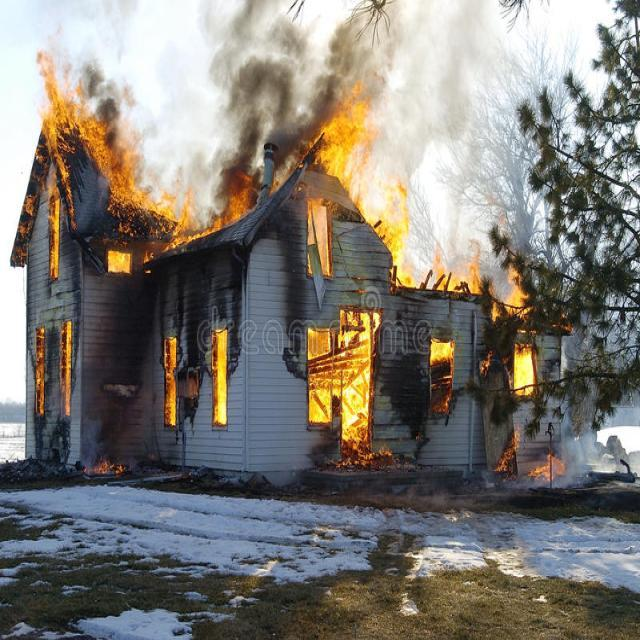Fire: (35, 50, 188, 247), (304, 306, 380, 464), (320, 90, 377, 204), (379, 172, 416, 290)
Smoke: (383, 5, 503, 154), (206, 3, 317, 138)
